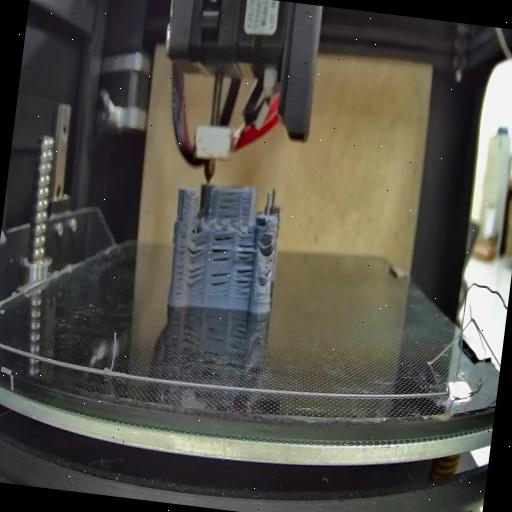cracks: (171, 234, 189, 299), (217, 186, 243, 221), (207, 270, 233, 299), (210, 234, 234, 264), (234, 267, 256, 299), (236, 239, 258, 263), (186, 264, 206, 289), (186, 236, 208, 258), (262, 238, 276, 255), (261, 264, 272, 281), (178, 212, 186, 224)
